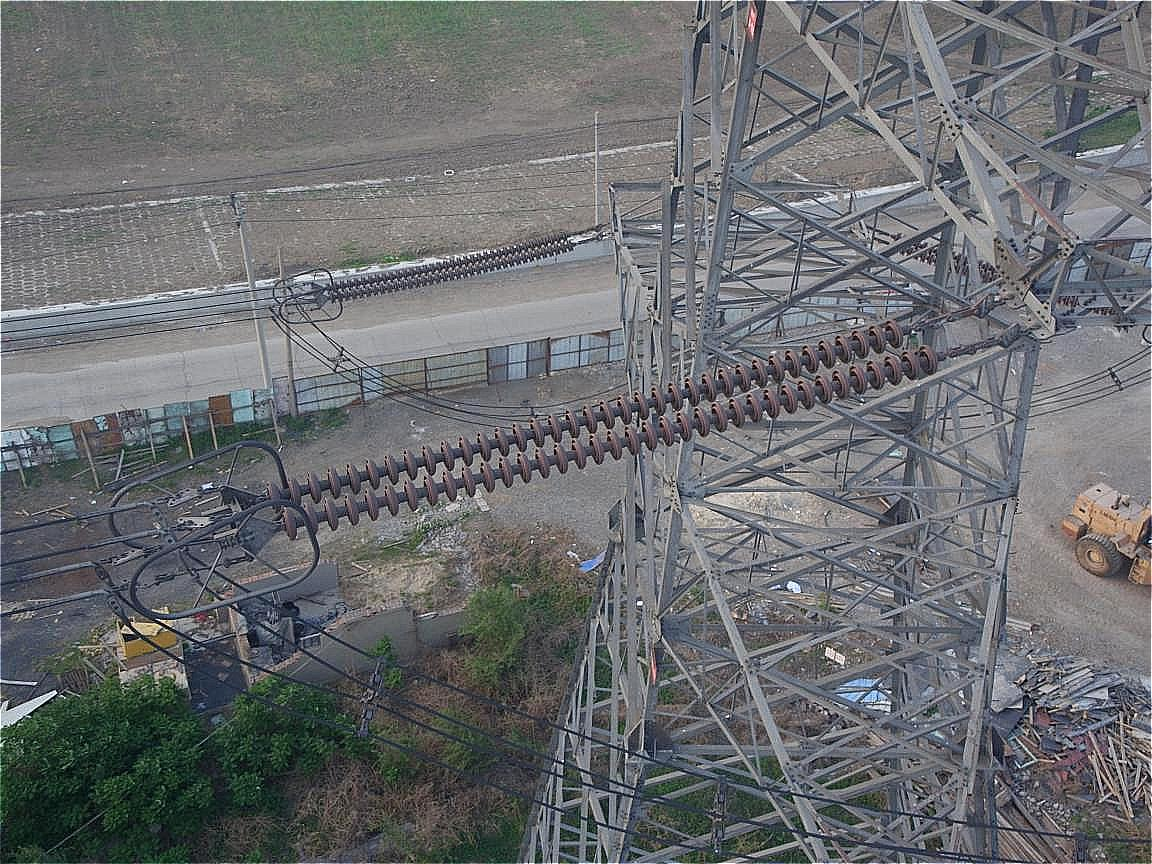insultor1: (230, 314, 947, 536)
insultor2: (304, 224, 589, 303)
